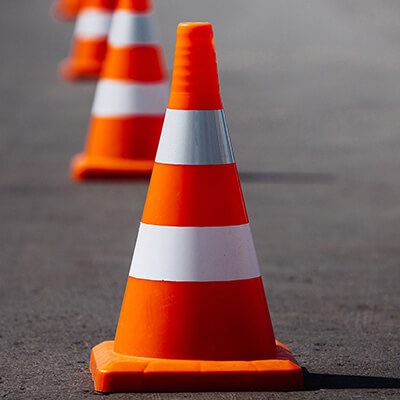Road_cone: (107, 17, 302, 388), (85, 1, 178, 181)
